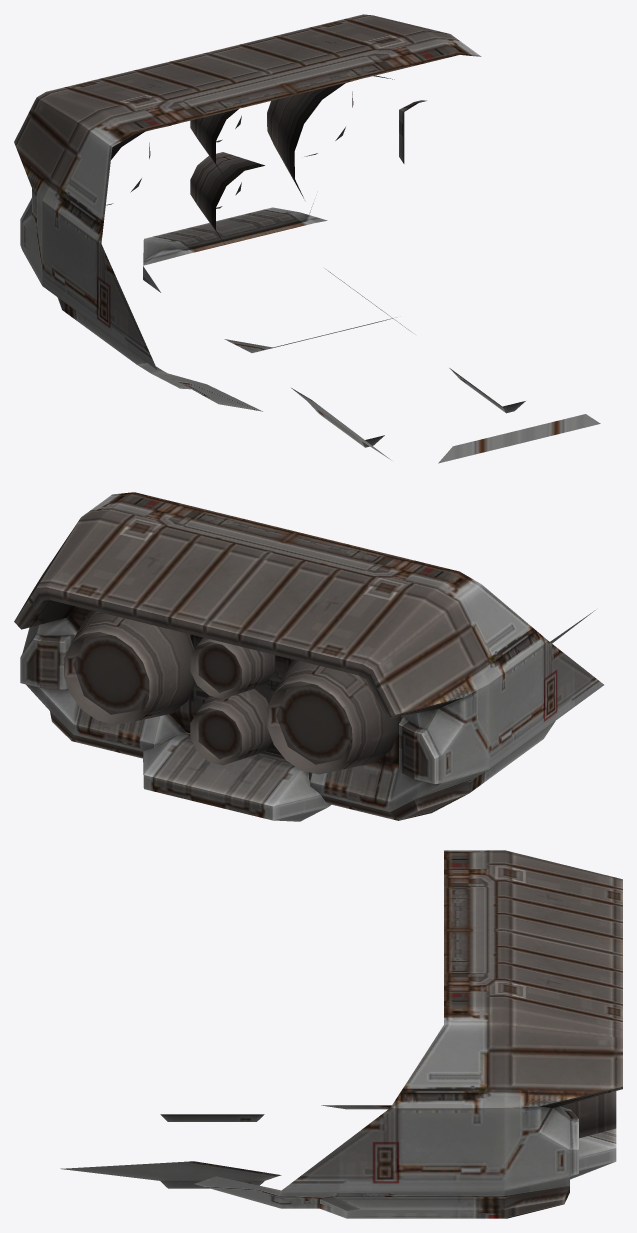
File: engine_hgn_carrier_03_ion_03_t1.glb
3 renders of one model, top to bottom at view 1: azimuth 30°, elevation 25°; view 2: azimuth 150°, elevation 25°; view 3: azimuth 270°, elevation 25°, orthographic. The views are drawn at different scales.
Parts seen in each view (by area): view 1: hgn_flagship_carrier_03_ion_engine_m_LOD0; view 2: hgn_flagship_carrier_03_ion_engine_m_LOD0; view 3: hgn_flagship_carrier_03_ion_engine_m_LOD0.
Boxes of the visible parts, left/top/right/bottom form: hgn_flagship_carrier_03_ion_engine_m_LOD0: left=14, top=14, right=600, bottom=463; hgn_flagship_carrier_03_ion_engine_m_LOD0: left=14, top=492, right=603, bottom=821; hgn_flagship_carrier_03_ion_engine_m_LOD0: left=60, top=850, right=622, bottom=1218.
Bounding box in the file's own units: 1.86 × 0.9168 × 2.27.
Materials: 1 (1 with a texture image).
